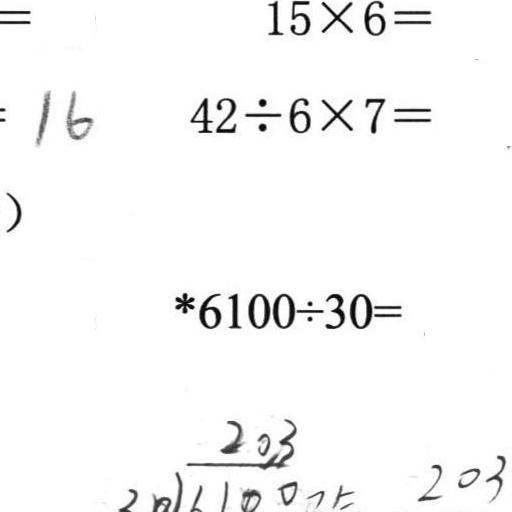ans: (28, 82, 92, 146)
